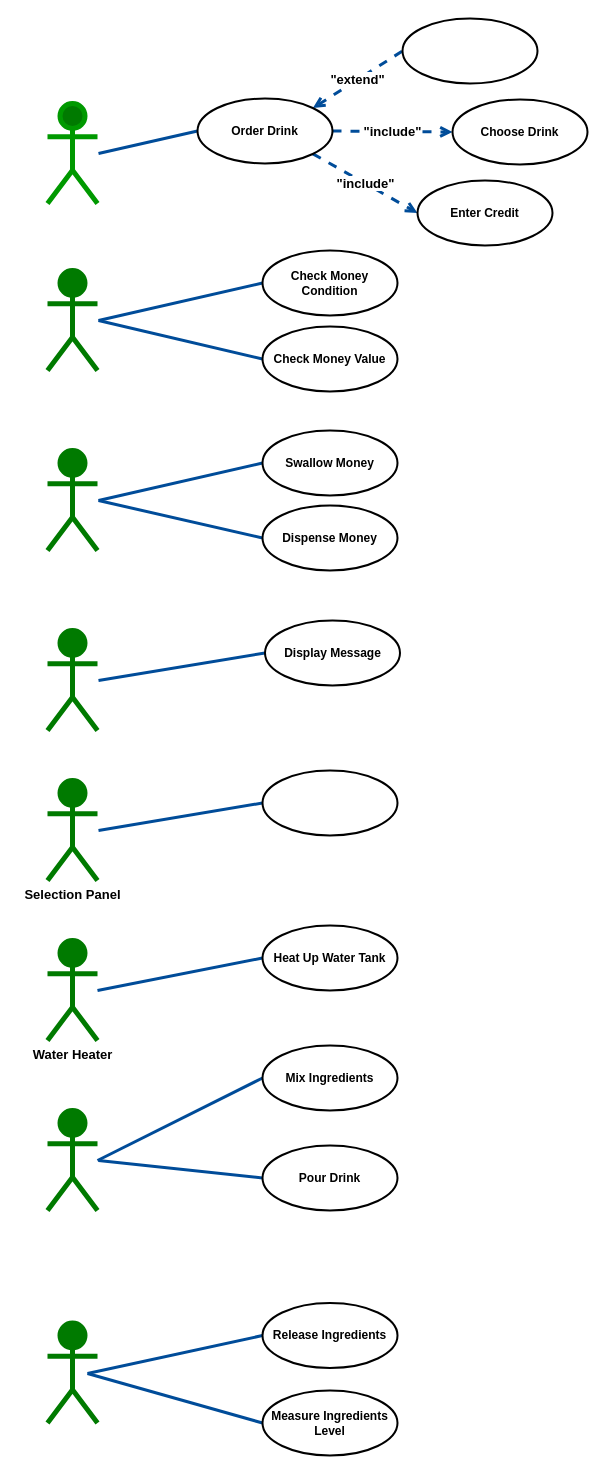
Some shapes in this 606 by 1473 pixel diagram are drawn without their labels. The centre of each missing label's shape, as x and y in pixels:
"Cancel Order" goes at (x=469, y=50).
"Customer" goes at (x=72, y=153).
"Display Available Ingredients" goes at (x=329, y=802).
"Inventory Storage" goes at (x=72, y=1372).
"Mixer" goes at (x=72, y=1160).
"Money Dispenser" goes at (x=72, y=500).
"Money Sensor" goes at (x=72, y=320).
"Screen" goes at (x=72, y=680).
